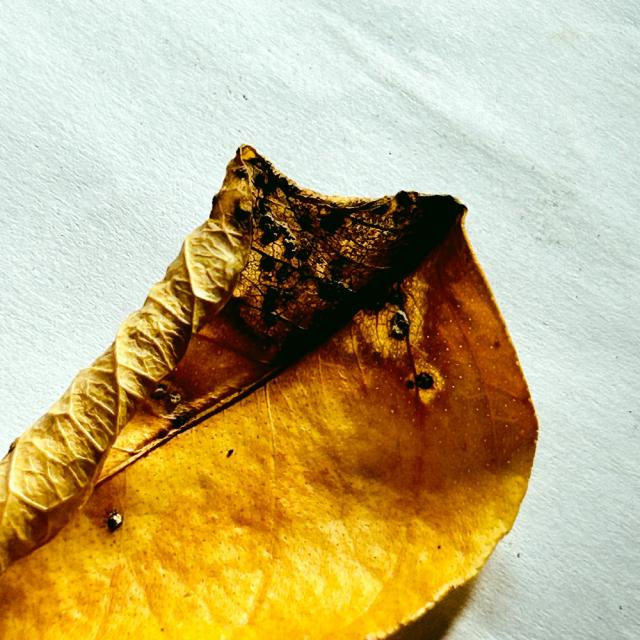DryLeaf_Lemon: (0, 145, 537, 639)
